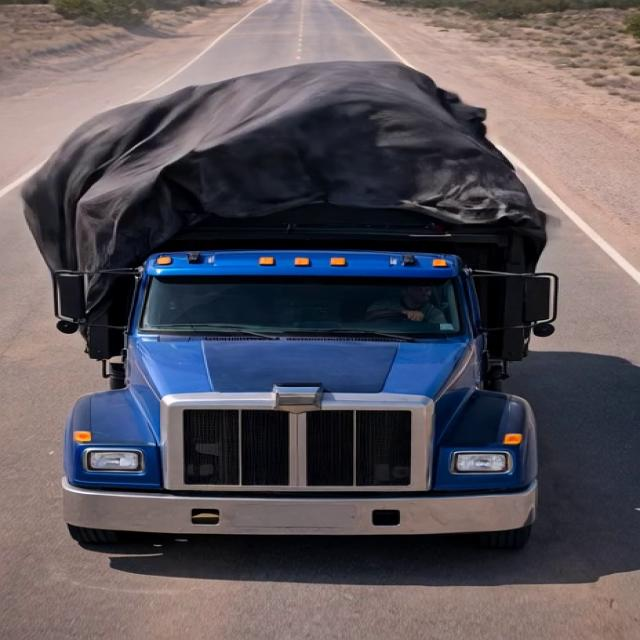trailer: (74, 59, 498, 291)
truck: (15, 38, 561, 534)
